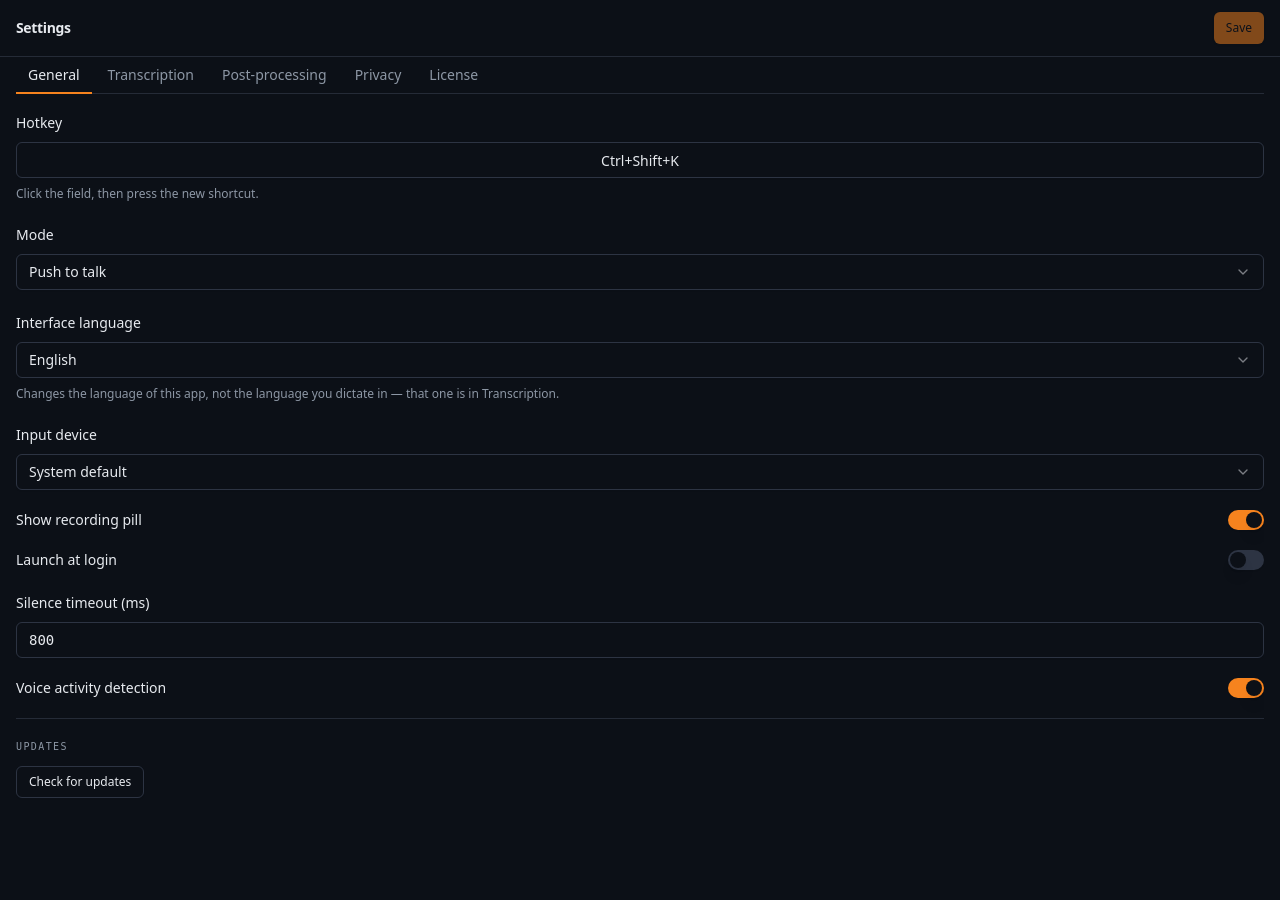
Test: Settings (mock mode) › rolls back and surfaces the error when save fails, recovering on retry
Press Space in the field labelled "Hotkey", box [16,142,1264,178]
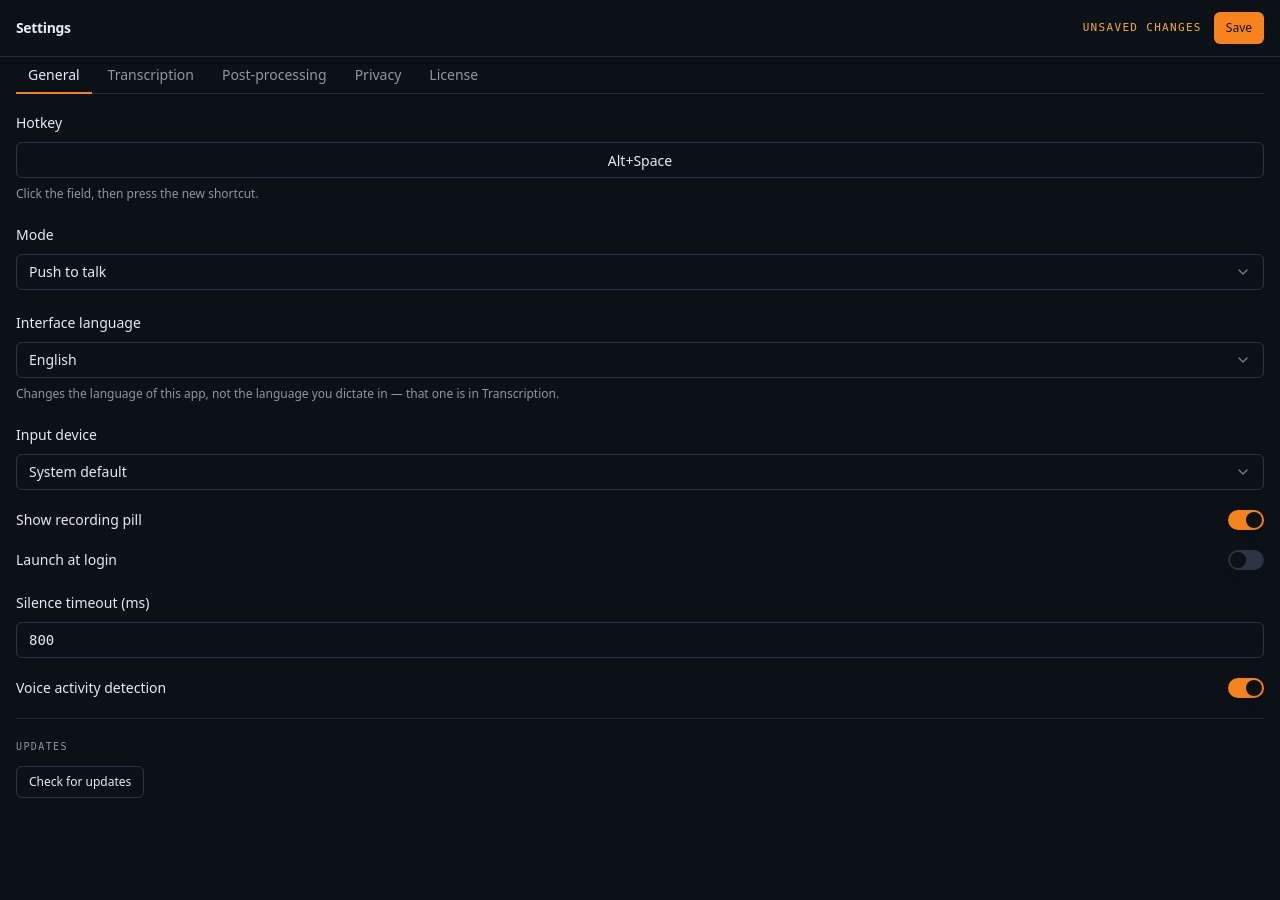
Result: the field labelled "Hotkey" holds "Alt+Space" at [16,142,1264,178]
Click the button "Save": x=1239, y=28 [1214,12,1264,44]
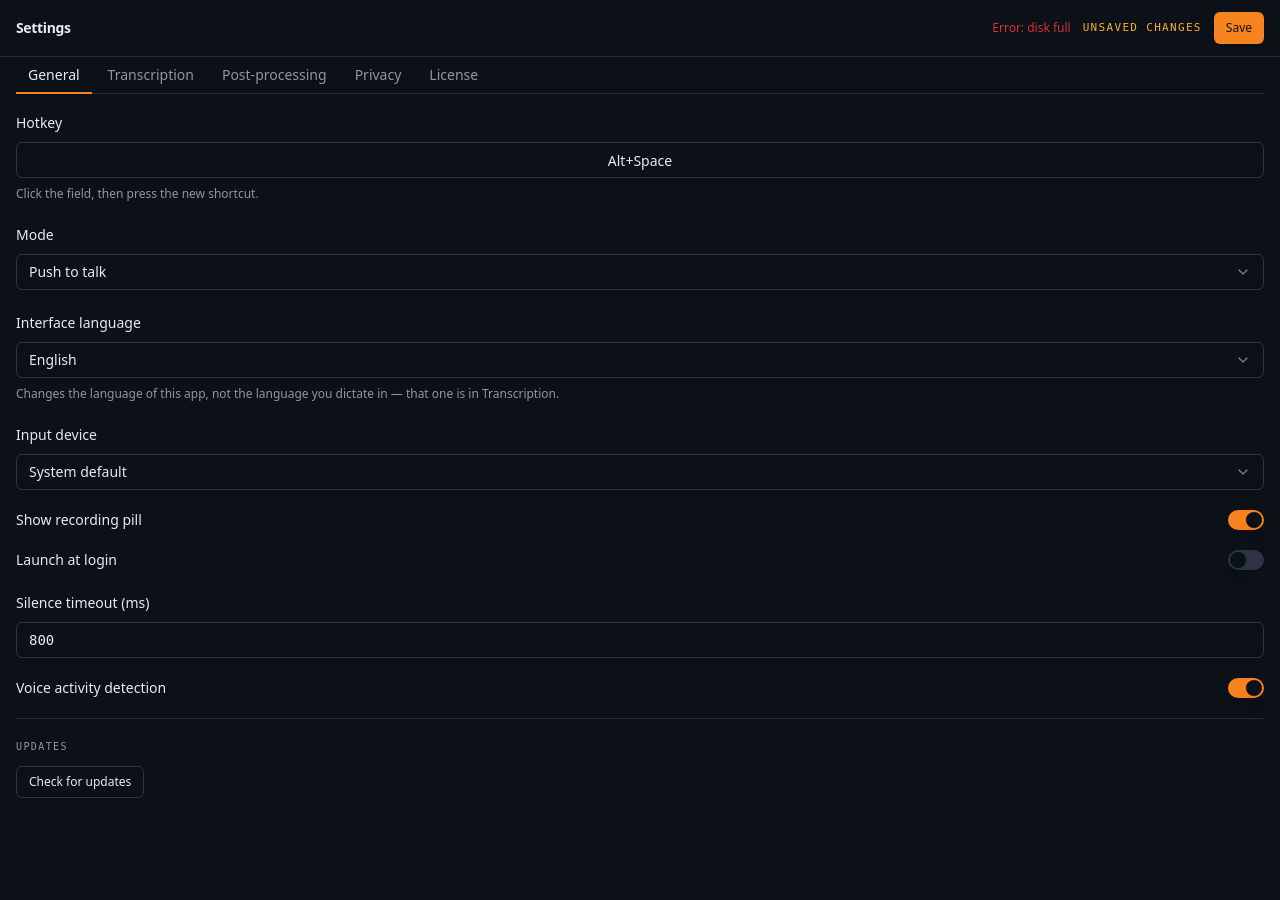
Result: the text "Unsaved changes" is shown at [1083,20,1202,36]
Result: the button "Save" is enabled
Result: the message shows "disk full" at [992,19,1071,36]
Click the button "Save": x=1239, y=28 [1214,12,1264,44]
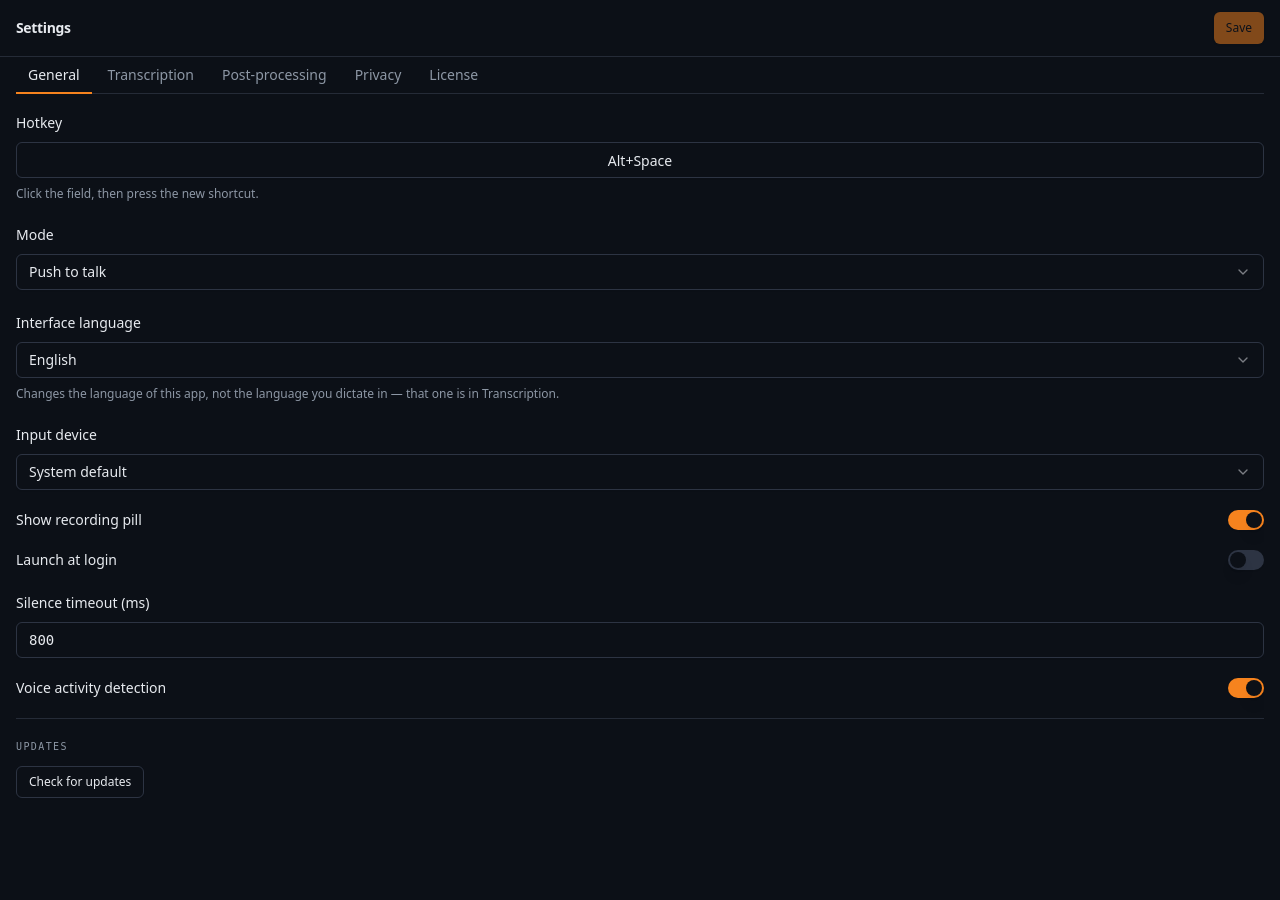
Result: the button "Save" is disabled at [1214,12,1264,44]
Result: the message "Error: disk full" is gone
